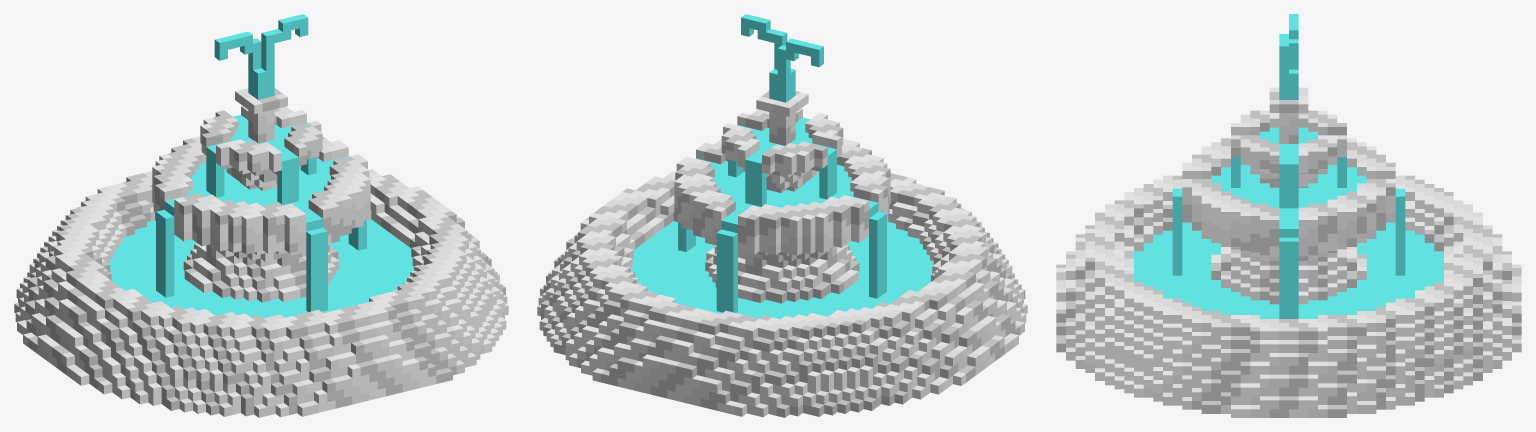
Rendered from fountain.fbx.
The picture shows the model from 3 angles, left to right: view 1: azimuth 30°, elevation 25°; view 2: azimuth 150°, elevation 25°; view 3: azimuth 270°, elevation 25°; orthographic projection.
Visible parts, largest first — view 1: fountain, water; view 2: fountain, water; view 3: fountain, water.
Boxes of the visible parts, x1,y1,x2,y2 form: fountain: (14,88,508,417); water: (109,14,413,318); fountain: (537,91,1027,417); water: (631,14,933,319); fountain: (1056,87,1521,417); water: (1134,14,1443,318).
Size of the model in its own units: 4 by 2.64 by 3.84.
Materials: 2 (2 with a texture image).
